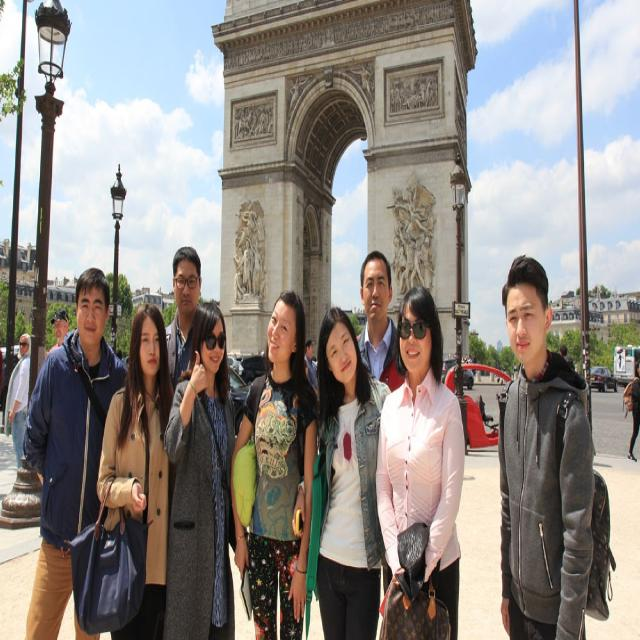body: (20, 265, 134, 639), (496, 253, 596, 640), (290, 304, 398, 639), (371, 282, 467, 639), (226, 287, 322, 639), (95, 300, 176, 640), (161, 299, 241, 639), (357, 249, 405, 598), (161, 245, 205, 394), (388, 174, 438, 301), (2, 331, 32, 482), (230, 200, 268, 306), (228, 94, 278, 147), (387, 67, 442, 114), (622, 358, 640, 463), (448, 351, 518, 378), (345, 58, 376, 107), (46, 308, 70, 357), (304, 337, 319, 388), (288, 70, 304, 114), (558, 343, 577, 377), (301, 356, 319, 380), (116, 345, 130, 367)
